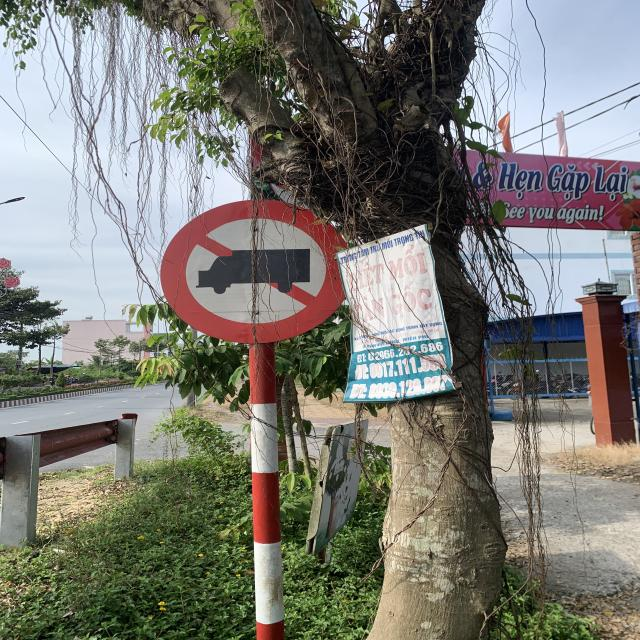Cam_Xe_Tai: (156, 201, 350, 348)
